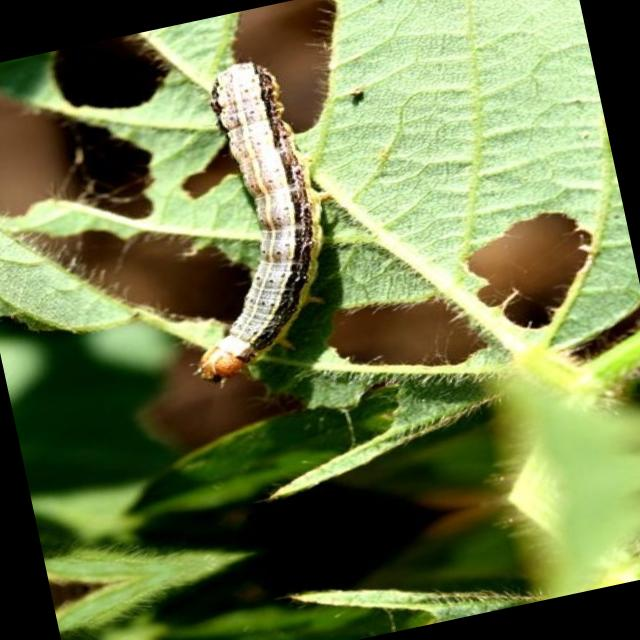Armyworm: (77, 45, 387, 421)
Armyworm_damage: (440, 180, 631, 365), (53, 184, 261, 347), (293, 276, 479, 398), (36, 21, 212, 136)
